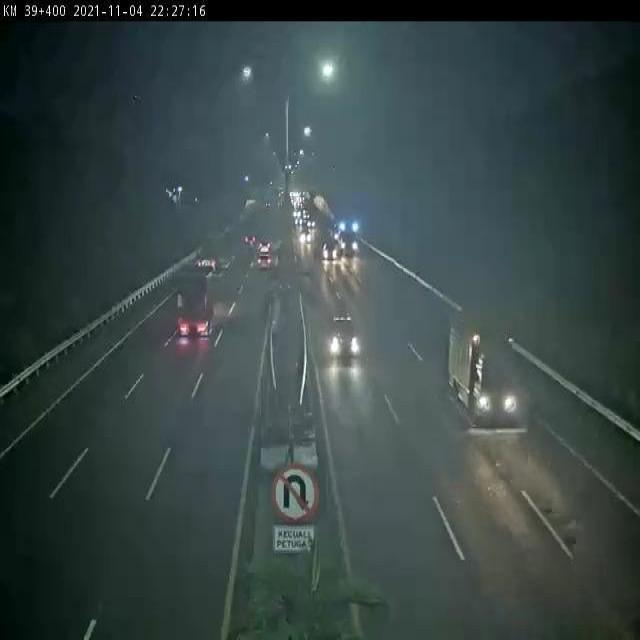car: (329, 313, 360, 359), (257, 253, 273, 272)
truck: (447, 313, 519, 423), (175, 275, 217, 337), (194, 239, 222, 272)
